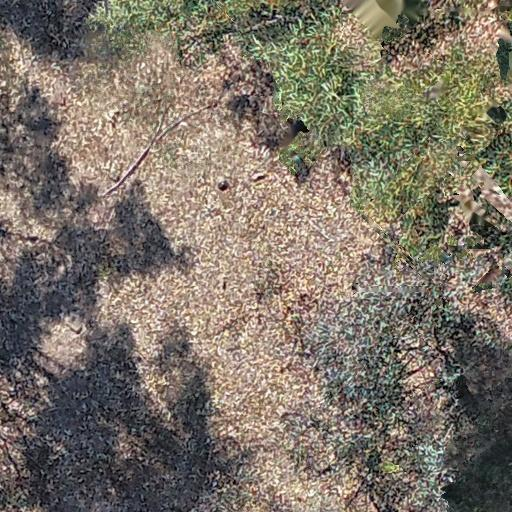stone: (246, 169, 270, 182), (214, 176, 231, 192)
